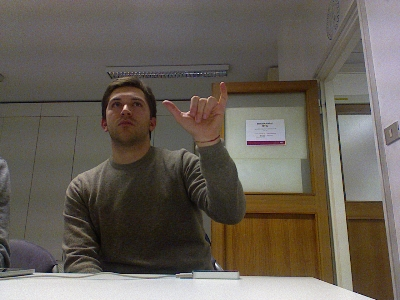六六六: (161, 80, 228, 141)
